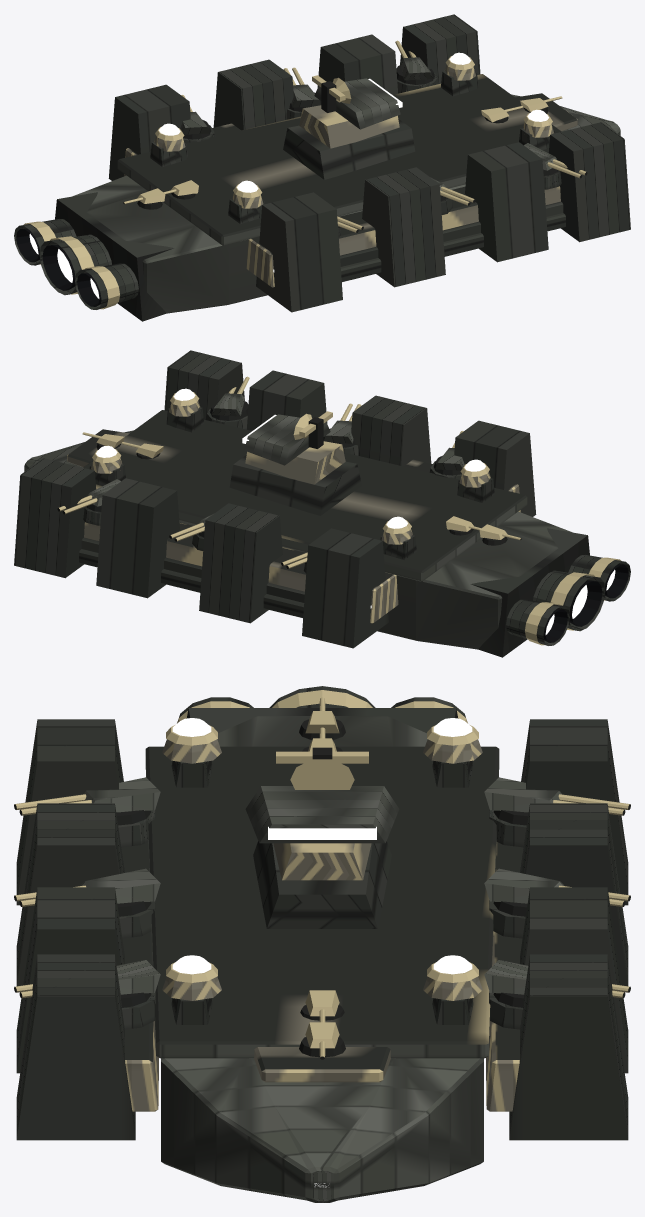
The model's file is cruiser.glb.
The picture shows the model from 3 angles, top to bottom: view 1: azimuth 30°, elevation 25°; view 2: azimuth 150°, elevation 25°; view 3: azimuth 270°, elevation 25°; orthographic projection. The views are drawn at different scales.
Parts seen in each view (by area): view 1: hull_body, engine_block, sensor_tower, weapon_turrets, shield_pylons; view 2: hull_body, engine_block, sensor_tower, weapon_turrets, shield_pylons; view 3: hull_body, weapon_turrets, sensor_tower, shield_pylons, engine_block.
Boxes of the visible parts, x1,y1,x2,y2 form: hull_body: [72, 14, 630, 313]; engine_block: [14, 192, 174, 321]; sensor_tower: [283, 75, 415, 179]; weapon_turrets: [123, 40, 587, 237]; shield_pylons: [150, 52, 555, 223]; hull_body: [14, 350, 572, 649]; engine_block: [470, 528, 630, 657]; sensor_tower: [229, 411, 361, 515]; weapon_turrets: [57, 376, 521, 573]; shield_pylons: [89, 388, 494, 559]; hull_body: [16, 716, 628, 1202]; weapon_turrets: [14, 697, 630, 1059]; sensor_tower: [245, 747, 399, 928]; shield_pylons: [162, 718, 482, 1024]; engine_block: [177, 686, 467, 732].
Size of the model in its own units: 42 by 11.1 by 24.
1 material, 1 textured.
